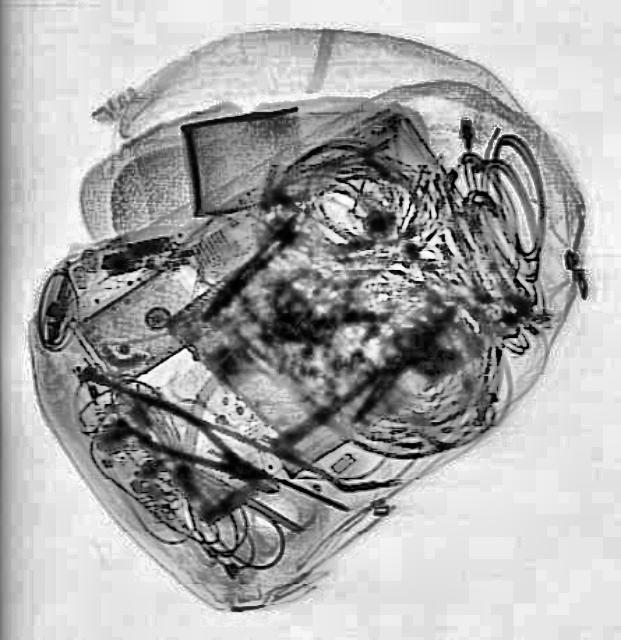Pliers: (110, 382, 290, 512)
